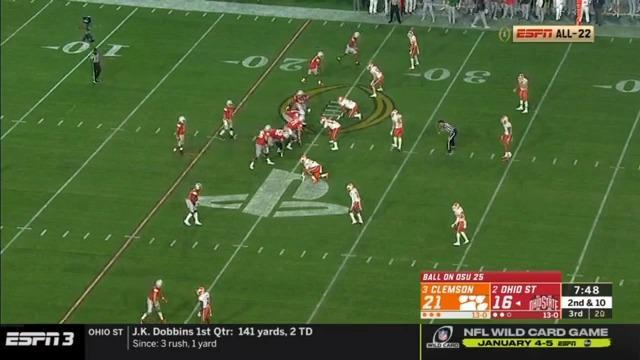defense: (299, 154, 330, 186), (448, 200, 469, 246), (385, 108, 405, 154), (319, 115, 343, 153), (345, 182, 365, 227), (497, 115, 515, 164), (193, 283, 214, 325), (514, 72, 533, 116), (337, 95, 364, 123), (407, 29, 424, 72), (366, 61, 384, 99)
oline: (250, 126, 277, 173), (266, 128, 291, 160), (282, 118, 305, 150), (290, 89, 312, 114), (283, 105, 304, 127)
qb: (218, 98, 237, 141)
ref: (436, 117, 459, 156), (92, 46, 104, 86), (387, 0, 402, 24)
skill: (141, 280, 167, 324), (300, 49, 326, 88), (185, 183, 206, 230), (339, 30, 363, 67), (170, 116, 189, 158)
